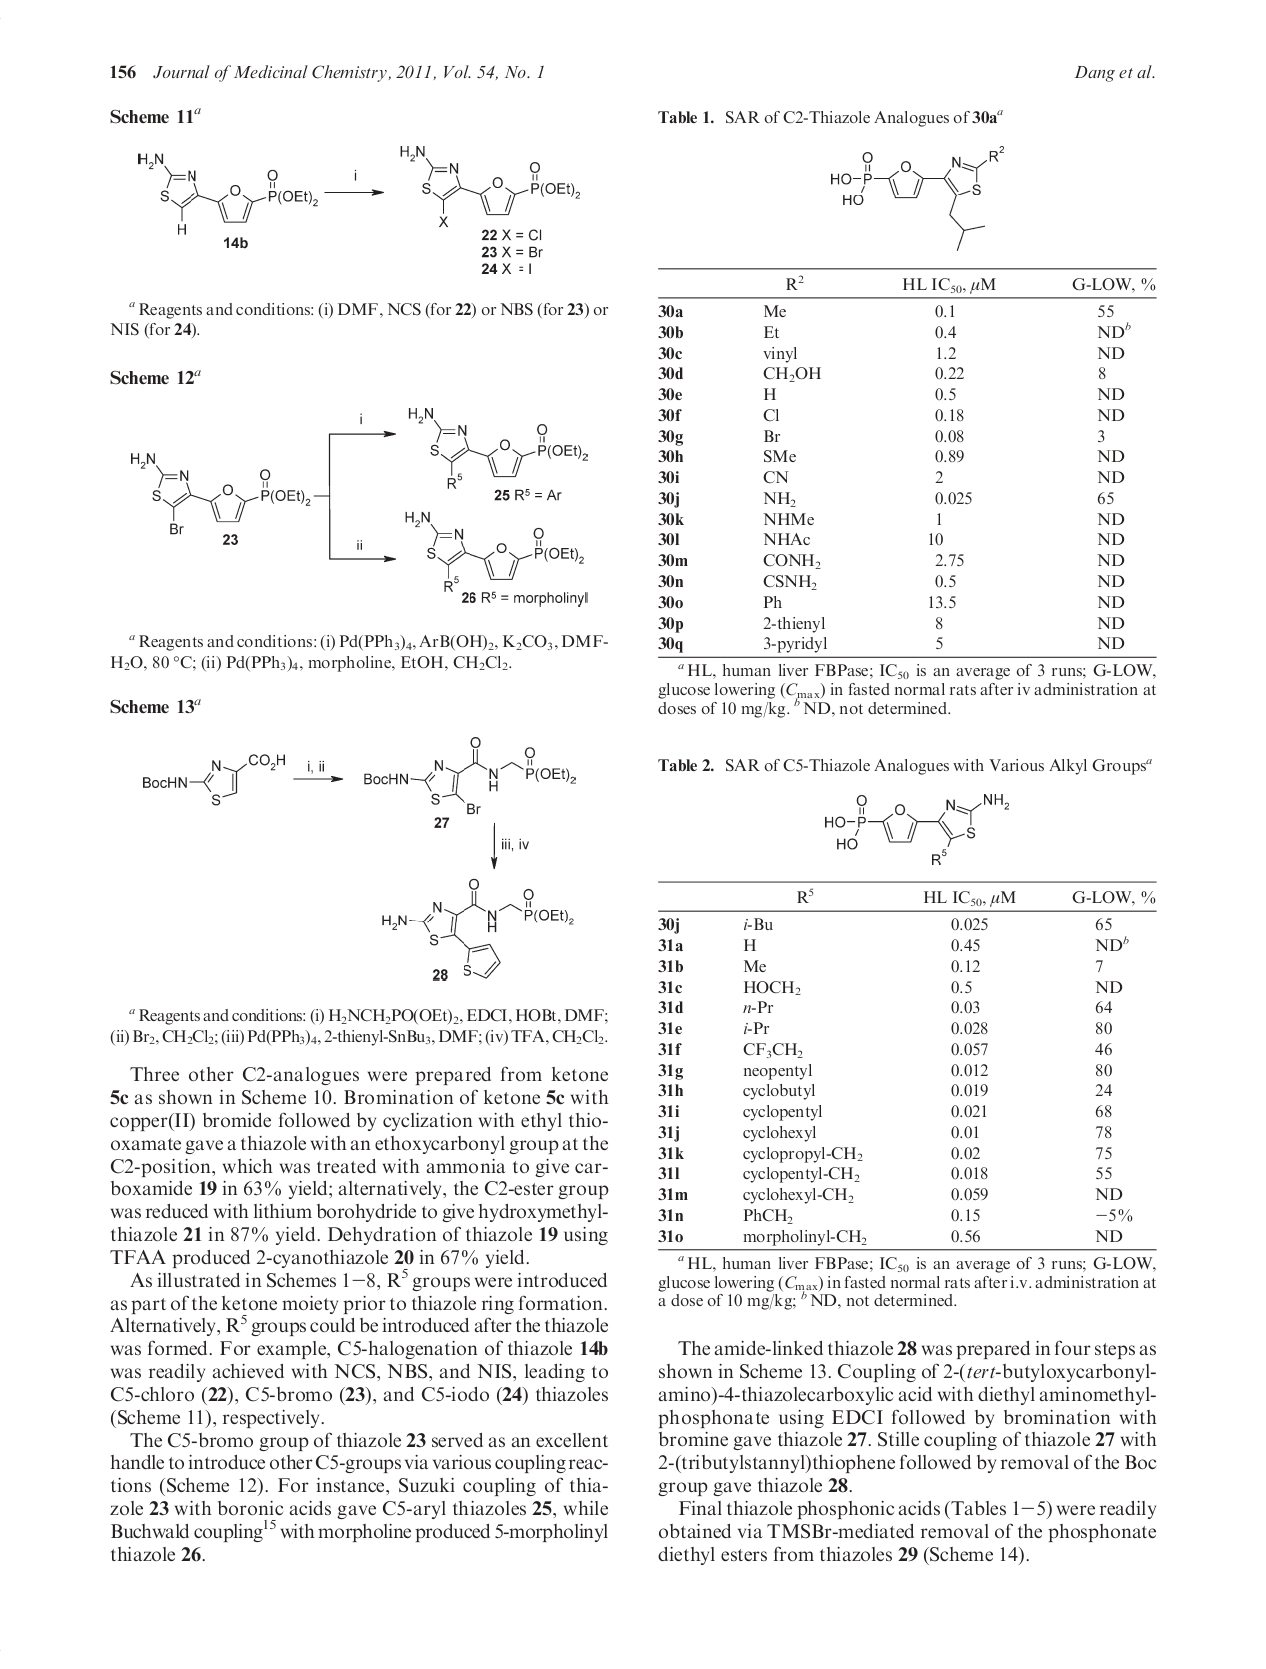exist_molecular: (376, 876, 578, 980), (826, 144, 1009, 253), (360, 735, 578, 819), (396, 137, 582, 230), (130, 146, 322, 235), (403, 403, 590, 492), (815, 787, 1011, 870), (126, 449, 310, 537), (402, 509, 589, 593), (140, 753, 287, 805)
